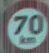Speed limit: (4, 3, 48, 51)
